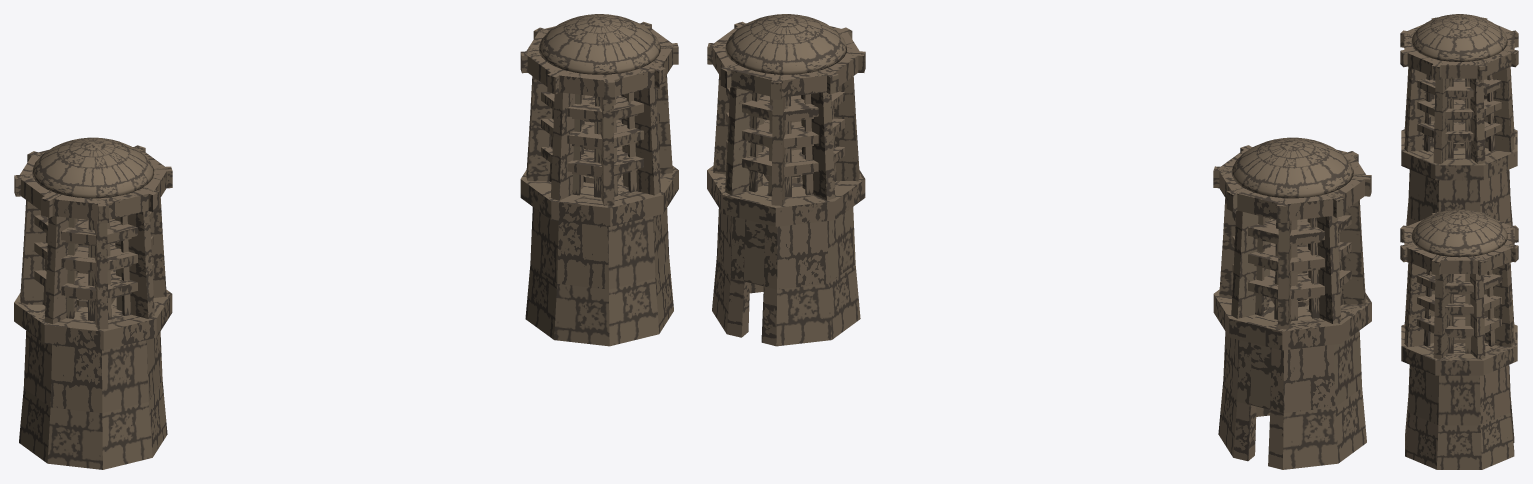
File: side_tower.fbx
The picture shows the model from 3 angles, left to right: view 1: azimuth 30°, elevation 25°; view 2: azimuth 150°, elevation 25°; view 3: azimuth 270°, elevation 25°; orthographic projection. The views are drawn at different scales.
Parts seen in each view (by area): view 1: tower.007, tower.004, dome, tower.005; view 2: tower.007, tower.004, dome, tower.005; view 3: tower.007, tower.004, dome, tower.005.
Part boxes in pixels (<box>): tower.007: <box>14,23,678,469</box>; tower.004: <box>14,21,678,329</box>; dome: <box>32,14,660,198</box>; tower.005: <box>43,92,636,321</box>; tower.007: <box>707,23,1371,469</box>; tower.004: <box>707,21,1371,329</box>; dome: <box>725,14,1353,198</box>; tower.005: <box>749,92,1342,321</box>; tower.007: <box>1401,24,1517,469</box>; tower.004: <box>1400,17,1518,359</box>; dome: <box>1411,14,1507,257</box>; tower.005: <box>1423,74,1495,353</box>.
Bounding box in the file's own units: 19790 × 8743 × 4045.
